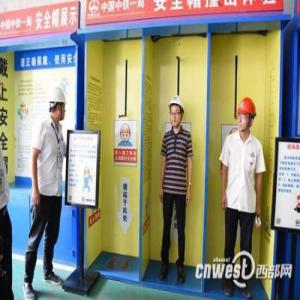red: (236, 96, 257, 136)
white: (49, 85, 69, 123), (168, 97, 186, 129)
